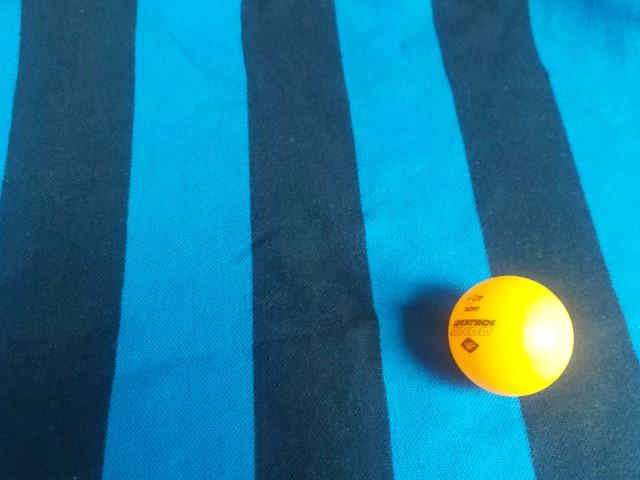oball: (59, 77, 203, 212)
